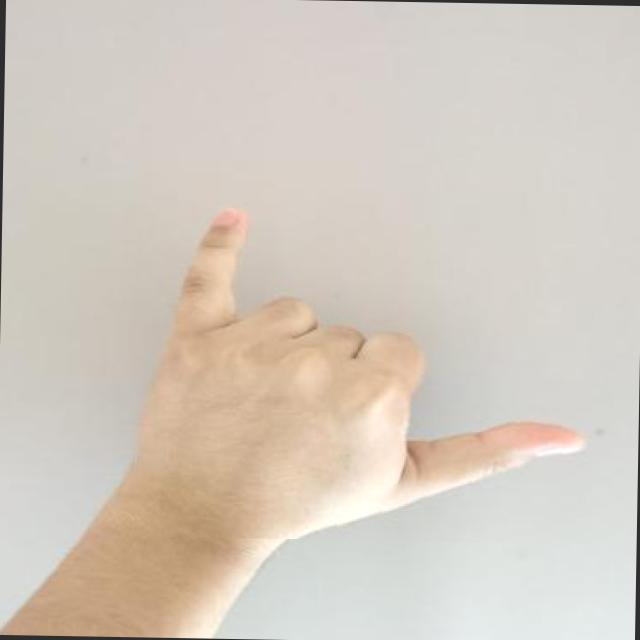Y: (128, 190, 596, 544)
